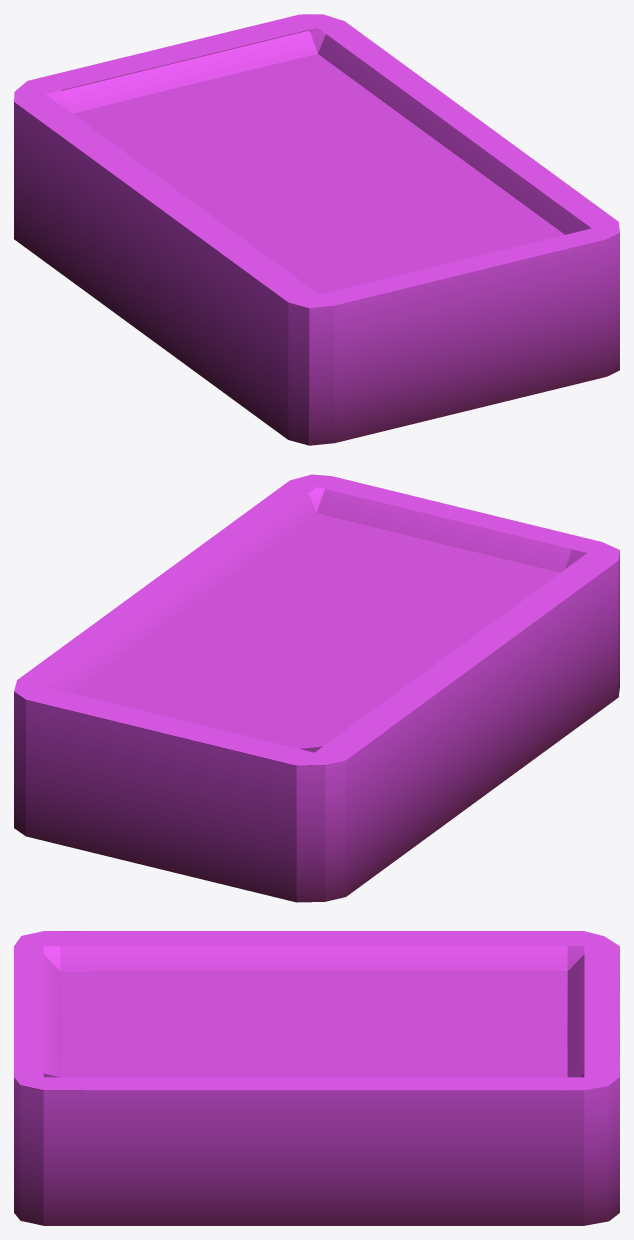
The model's file is Soap.glb.
3 views of the same model, one above another, from view 1: azimuth 30°, elevation 25°; view 2: azimuth 150°, elevation 25°; view 3: azimuth 270°, elevation 25° (orthographic).
Parts seen in each view (by area): view 1: Cube; view 2: Cube; view 3: Cube.
Boxes of the visible parts, x1,y1,x2,y2 form: Cube: (14,14,619,445); Cube: (14,474,619,902); Cube: (14,931,619,1225).
Bounding box in the file's own units: 0.8015 × 0.3184 × 1.29.
1 material, 1 textured.
